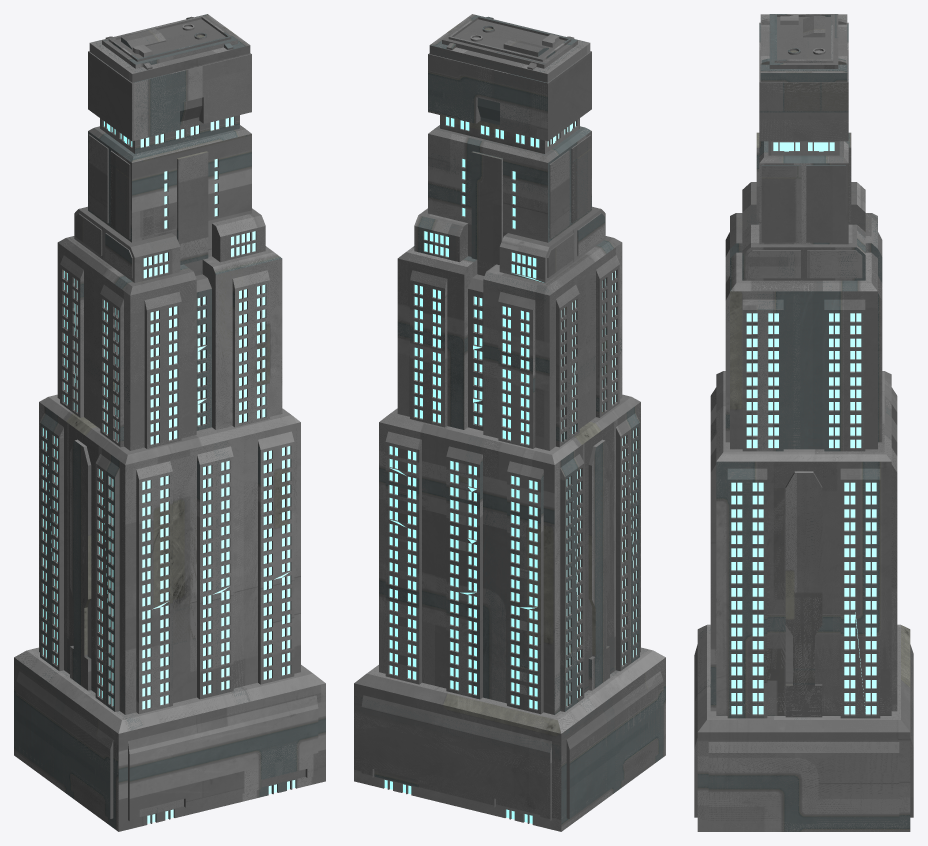
Rendered from Building4.fbx.
3 renders of one model, left to right at view 1: azimuth 30°, elevation 25°; view 2: azimuth 150°, elevation 25°; view 3: azimuth 270°, elevation 25°, orthographic.
Visible parts, largest first — view 1: Building_vi_1; view 2: Building_vi_1; view 3: Building_vi_1.
Part boxes in pixels (x1,y1,x2,y2): Building_vi_1: [14, 14, 325, 831]; Building_vi_1: [354, 14, 665, 831]; Building_vi_1: [694, 14, 913, 831].
Size of the model in its own units: 33.03 by 109 by 28.97.
2 materials, 1 textured.
